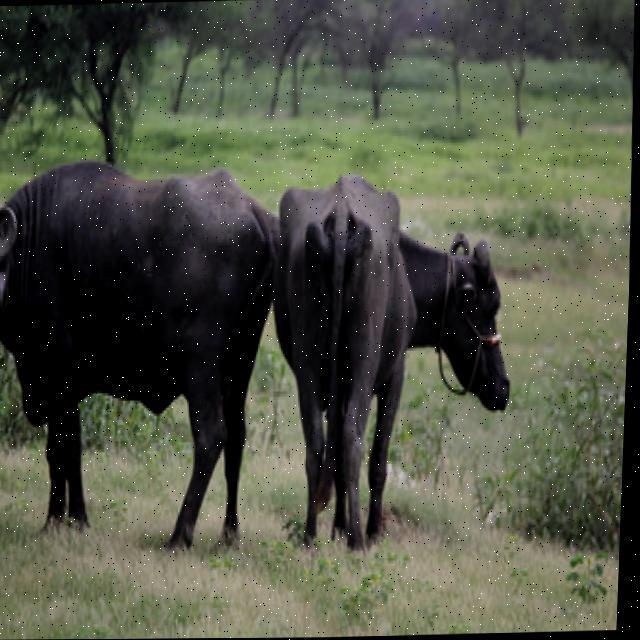Buffalo: (0, 160, 276, 535), (258, 169, 523, 554)
